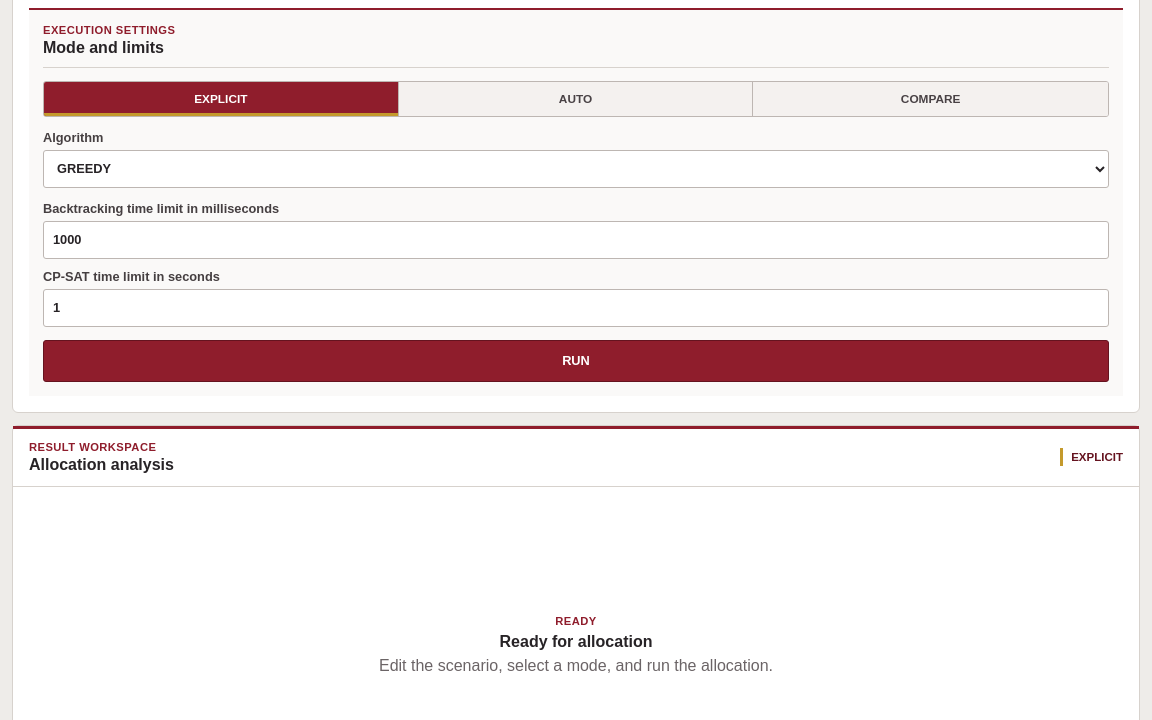
Scenario: AllocationPageComponent › should keep RUN disabled without changing its label while loading
The width and height of the screenshot is (1152, 720).
(page scrolled)
Click the button "RUN" at (576, 361), box [43,340,1109,382]
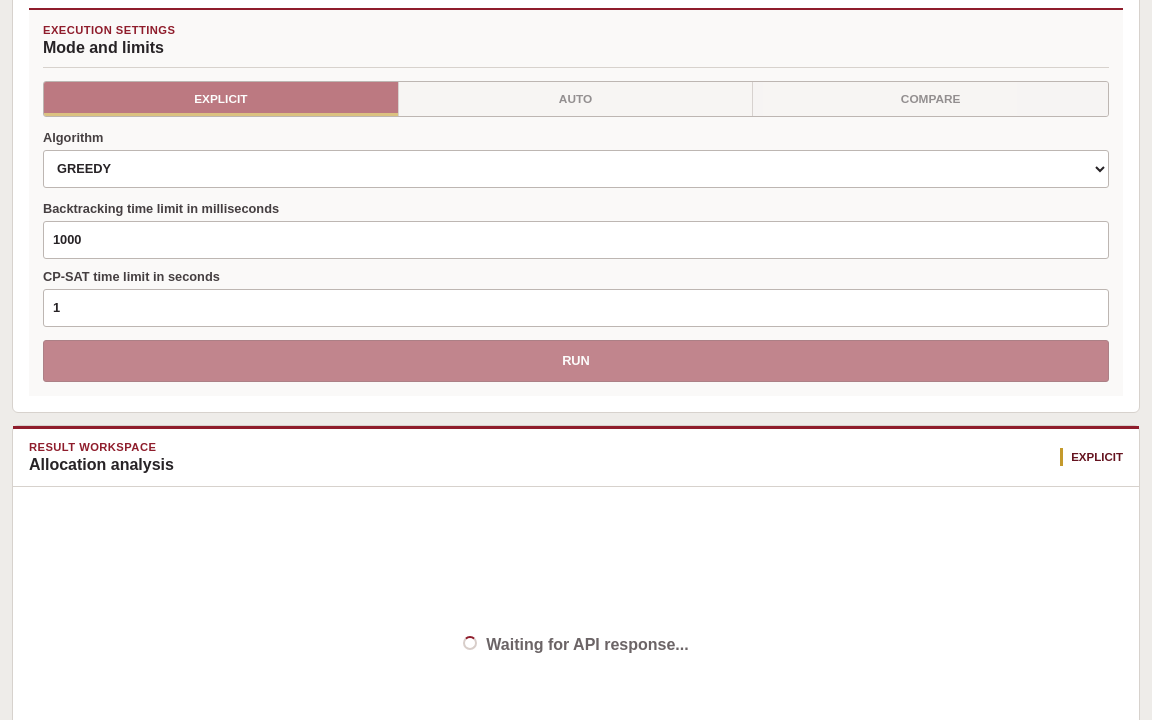
Check: the button "RUN" is disabled, box [43,340,1109,382]
